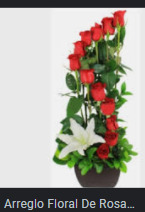RedRose: (97, 94, 116, 115), (102, 113, 120, 132), (90, 79, 106, 100), (78, 65, 95, 84), (101, 13, 114, 35), (115, 8, 127, 31), (70, 40, 87, 55), (67, 51, 82, 68), (104, 130, 119, 147), (90, 22, 102, 42), (77, 29, 92, 45), (97, 143, 110, 161)
